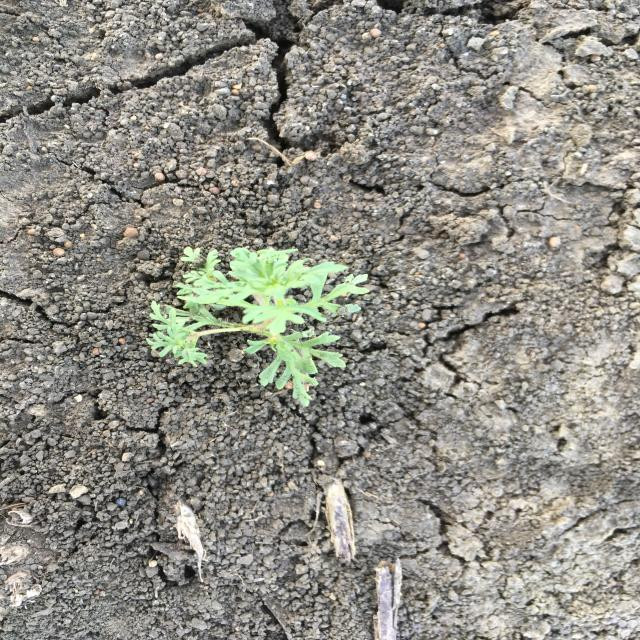Ragweed: (144, 245, 372, 408)
